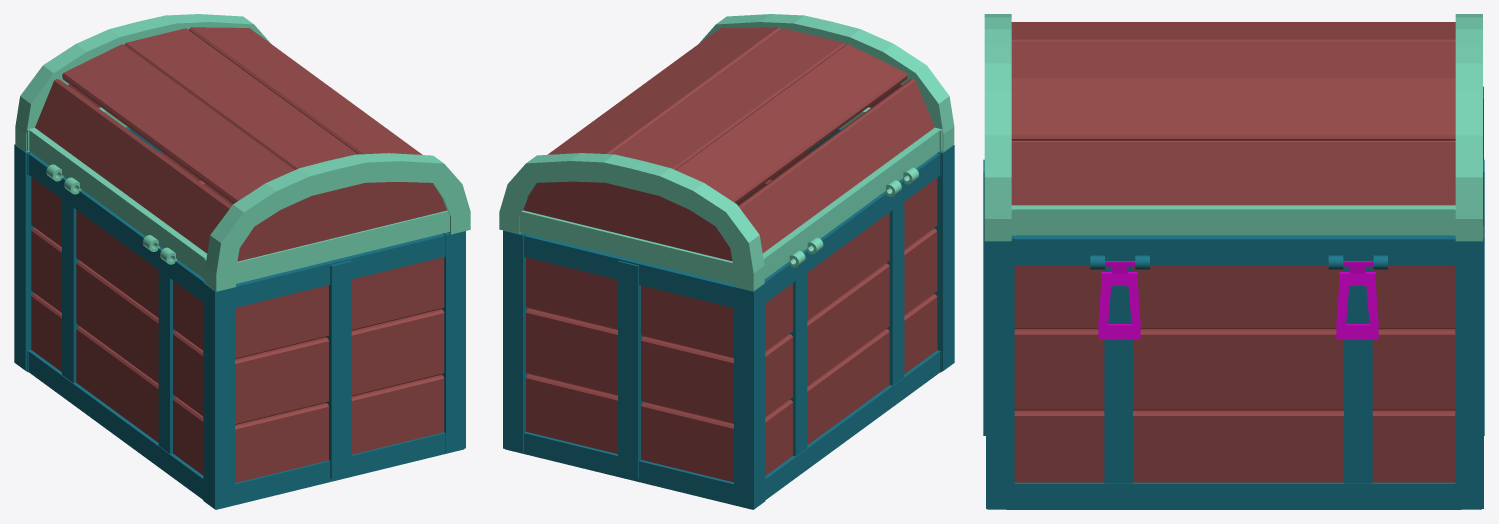
File: BasicShape.fbx
3 renders of one model, left to right at view 1: azimuth 30°, elevation 25°; view 2: azimuth 150°, elevation 25°; view 3: azimuth 270°, elevation 25°, orthographic. The views are drawn at different scales.
Visible parts, largest first — view 1: polySurface18, polySurface54; view 2: polySurface18, polySurface54; view 3: polySurface18, polySurface54.
Boxes of the visible parts, bbox=[...] form: polySurface18: bbox=[14, 127, 465, 509]; polySurface54: bbox=[15, 14, 470, 291]; polySurface18: bbox=[503, 127, 954, 509]; polySurface54: bbox=[499, 14, 954, 291]; polySurface18: bbox=[983, 86, 1484, 509]; polySurface54: bbox=[984, 14, 1482, 241].
Bounding box in the file's own units: 13.45 × 14.91 × 17.5.
